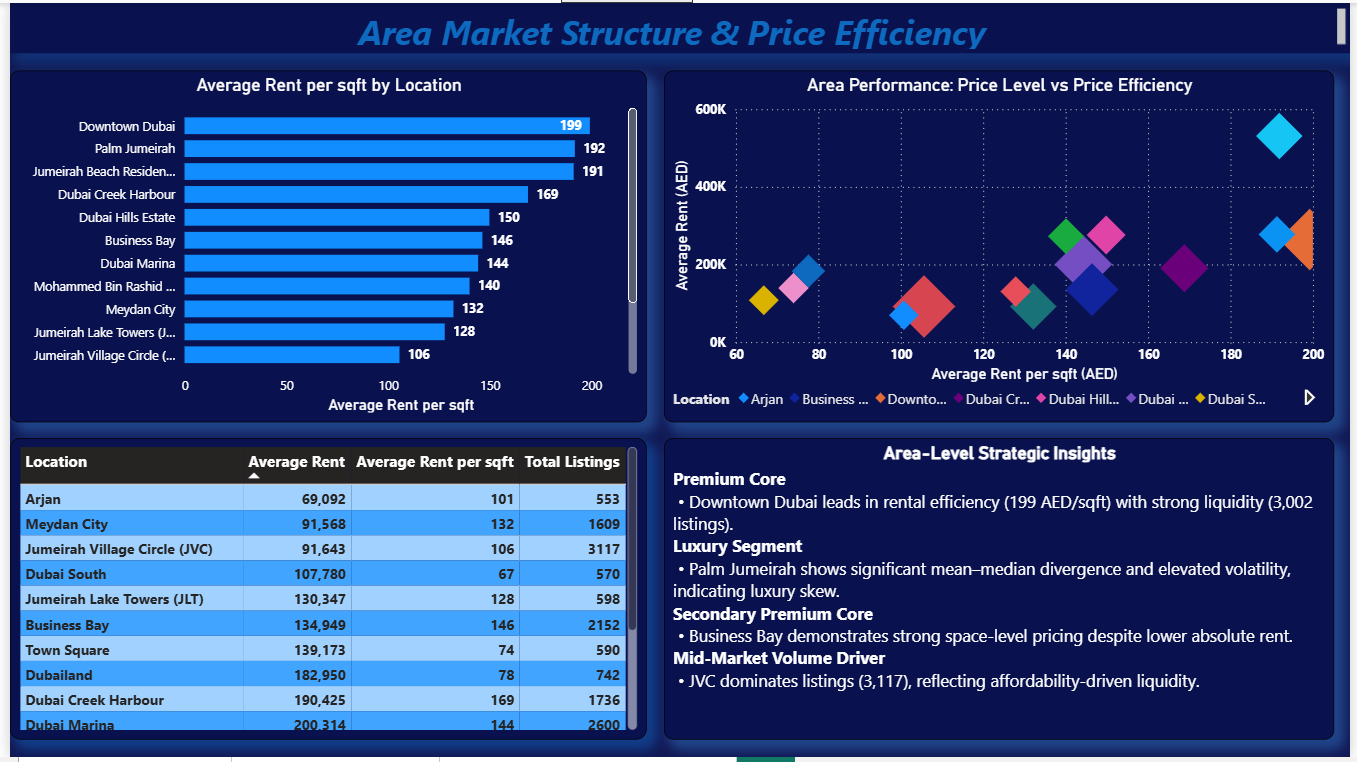

What the dashboard file says about the page in this screenshot:
{"tool":"powerbi","page":{"name":"Area Performance","canvas":[1280,720],"ordinal":1},"visuals":[{"type":"textbox","box":[0,0,1280,48],"z":0},{"type":"clusteredBarChart","fields":{"Category":["dubai_rentals.Location"],"Y":["dubai_rentals.Average Rent per sqft"]},"box":[0,64,608,336],"z":1000},{"type":"tableEx","fields":{"Values":["dubai_rentals.Location","dubai_rentals.Average Rent","dubai_rentals.Average Rent per sqft","dubai_rentals.Total Listings"]},"box":[0,416,608,288],"z":2000},{"type":"scatterChart","title":"Area Performance: Price Level vs Price Efficiency","fields":{"X":["dubai_rentals.Average Rent per sqft"],"Y":["dubai_rentals.Average Rent"],"Size":["dubai_rentals.Total Listings"],"Series":["dubai_rentals.Location"]},"box":[624,64,640,336],"z":3000},{"type":"textbox","title":"Area-Level Strategic Insights","box":[624,416,640,288],"z":4000}]}

Visuals, with their boxes in screenshot pixels (x1, y1, x2, y2), scaled from the page's 1280x720 canvas onto the 1357x762 screenshot:
textbox: box=[0, 0, 1356, 51]
clusteredBarChart - dubai_rentals.Location x dubai_rentals.Average Rent per sqft: box=[0, 68, 645, 423]
tableEx - dubai_rentals.Location x dubai_rentals.Average Rent: box=[0, 440, 645, 745]
"Area Performance: Price Level vs Price Efficiency" scatterChart: box=[662, 68, 1340, 423]
"Area-Level Strategic Insights" textbox: box=[662, 440, 1340, 745]
